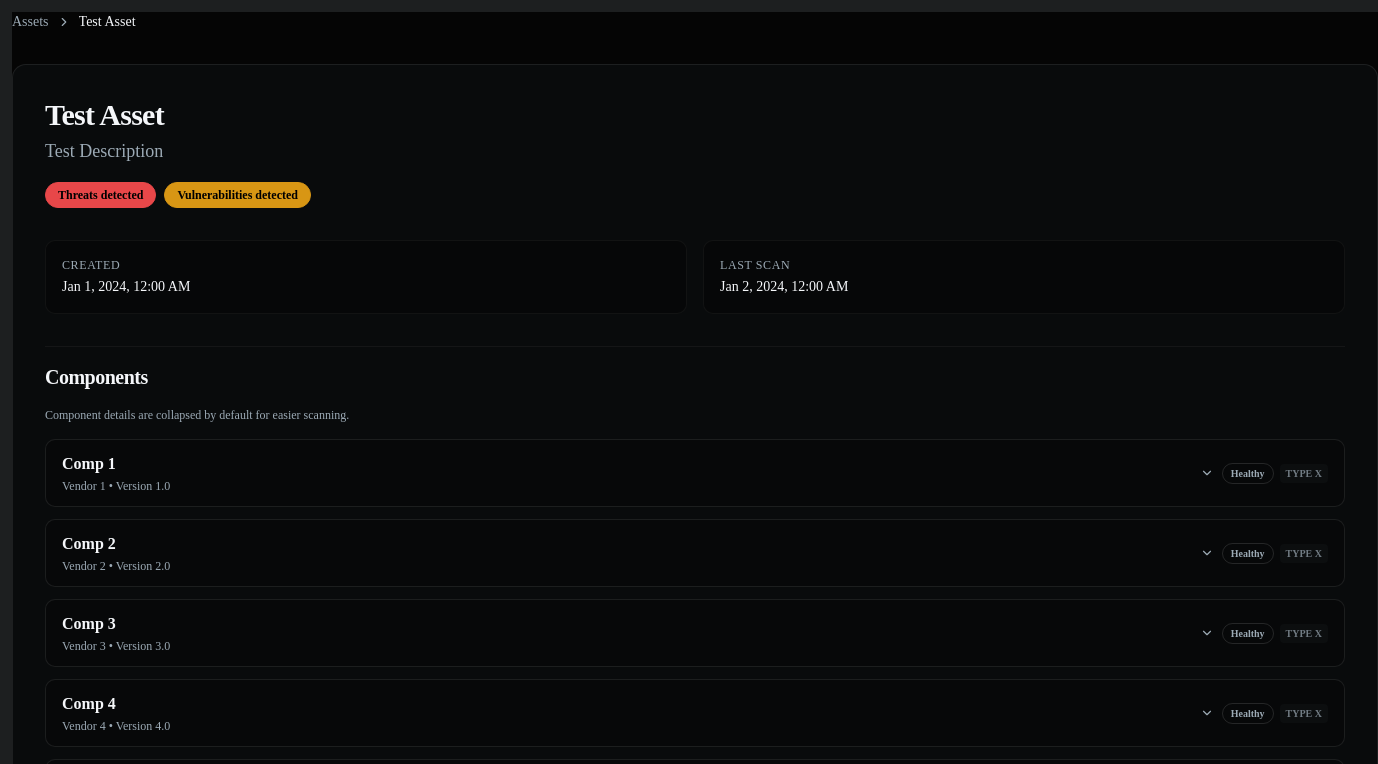
Test case: AssetDetails › collapses component details by default when there are many components
Expected: the text "Component details are collapsed by default for easier scanning." is shown, [45,408,349,422]
Expected: the text "First Seen" is not shown
Step 1. Click the button "Comp 1 Vendor 1 • Version 1.0" → (89, 464), box [62,452,1214,494]
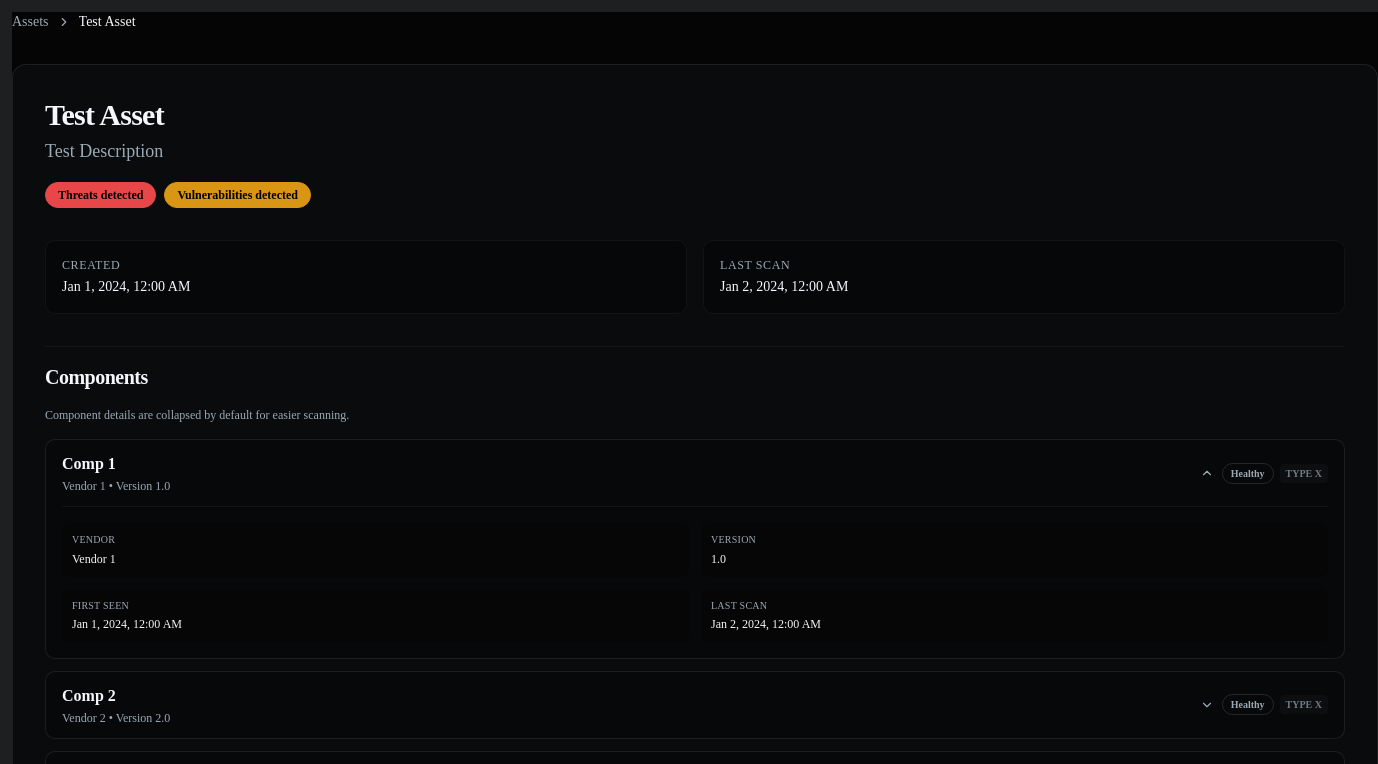
Now the text "First Seen" is shown, box [72,600,129,611]
